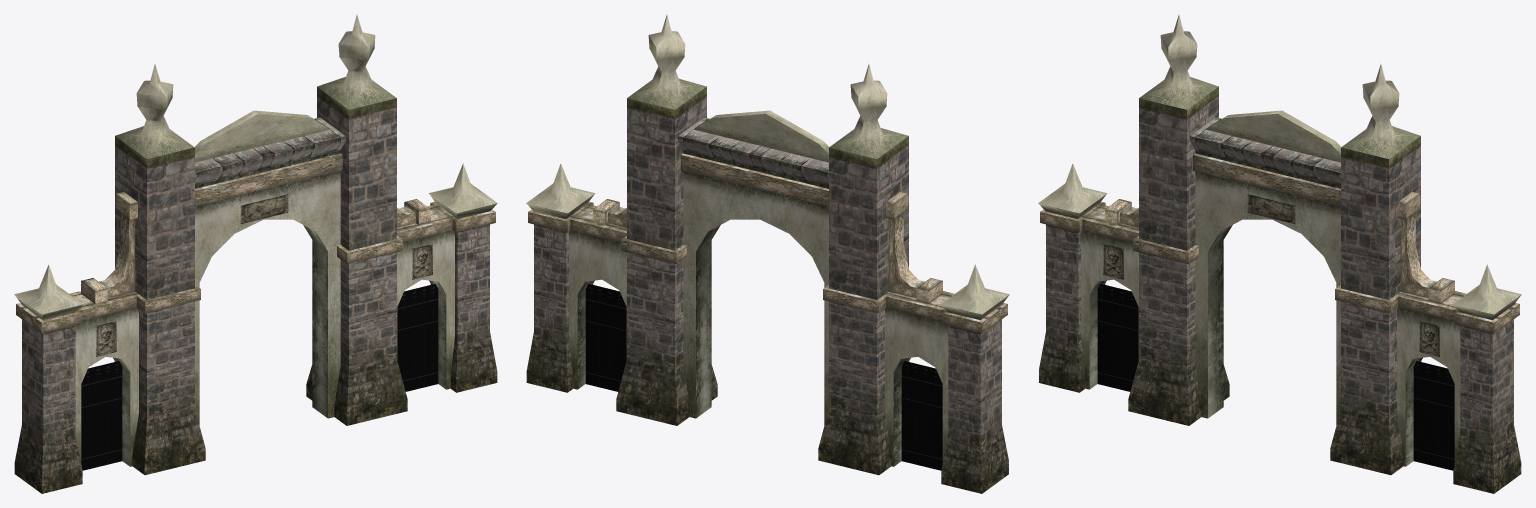
Rendered from pir_m_prp_cem_gate_english.fbx.
The picture shows the model from 3 angles, left to right: view 1: azimuth 30°, elevation 25°; view 2: azimuth 150°, elevation 25°; view 3: azimuth 330°, elevation 25°; orthographic projection.
Parts seen in each view (by area): view 1: wall_arches, column_left_tall, column_right_tall, column_left_short, column_right_short, bars_left, bars_right, columnCap_left_tall, columnCap_right_tall, trim_center, trimCap_center, trim_left (+9 smaller); view 2: wall_arches, column_left_tall, column_right_tall, column_left_short, column_right_short, bars_left, bars_right, columnCap_left_tall, columnCap_right_tall, trim_center, trimCap_center, trim_left (+6 smaller); view 3: wall_arches, column_right_tall, column_left_tall, column_right_short, column_left_short, bars_right, bars_left, columnCap_right_tall, columnCap_left_tall, trim_center, trimCap_center, trim_right (+9 smaller).
Boxes of the visible parts, x1,y1,x2,y2 form: wall_arches: (75, 150, 454, 466); column_left_tall: (115, 145, 205, 475); column_right_tall: (306, 96, 407, 425); column_left_short: (14, 319, 82, 493); column_right_short: (450, 224, 497, 392); bars_left: (81, 361, 122, 470); bars_right: (397, 284, 438, 391); columnCap_left_tall: (115, 64, 194, 167); columnCap_right_tall: (317, 15, 396, 118); trim_center: (195, 117, 345, 185); trimCap_center: (195, 110, 330, 162); trim_left: (16, 285, 200, 333); wall_arches: (569, 150, 948, 466); column_left_tall: (818, 145, 908, 475); column_right_tall: (616, 96, 717, 425); column_left_short: (941, 319, 1008, 493); column_right_short: (526, 224, 573, 392); bars_left: (901, 361, 942, 470); bars_right: (585, 284, 626, 391); columnCap_left_tall: (829, 64, 908, 167); columnCap_right_tall: (627, 15, 706, 118); trim_center: (678, 117, 828, 185); trimCap_center: (693, 110, 828, 162); trim_left: (823, 285, 1007, 333); wall_arches: (1081, 150, 1460, 466); column_right_tall: (1330, 145, 1420, 475); column_left_tall: (1128, 96, 1229, 425); column_right_short: (1453, 319, 1521, 493); column_left_short: (1039, 224, 1085, 392); bars_right: (1413, 361, 1454, 470); bars_left: (1097, 284, 1138, 391); columnCap_right_tall: (1341, 64, 1420, 167); columnCap_left_tall: (1139, 15, 1218, 118); trim_center: (1190, 117, 1340, 185); trimCap_center: (1205, 110, 1340, 162); trim_right: (1335, 285, 1519, 333).
Size of the model in its own units: 3012 by 2460 by 461.
2 materials, 2 textured.
